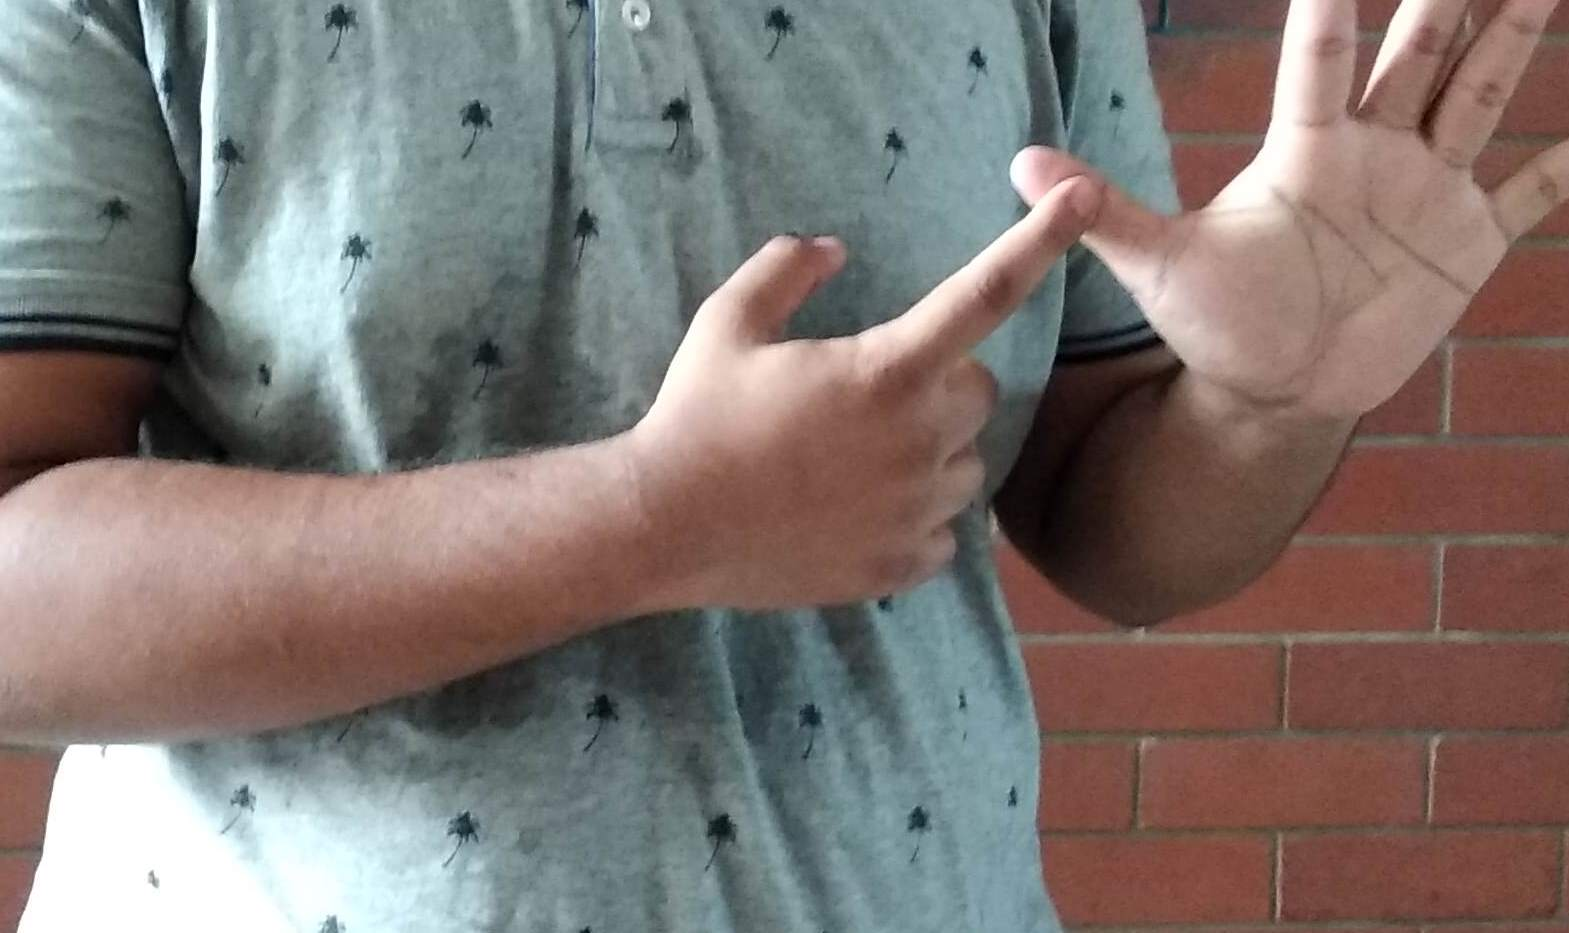a: (720, 2, 1549, 569)
